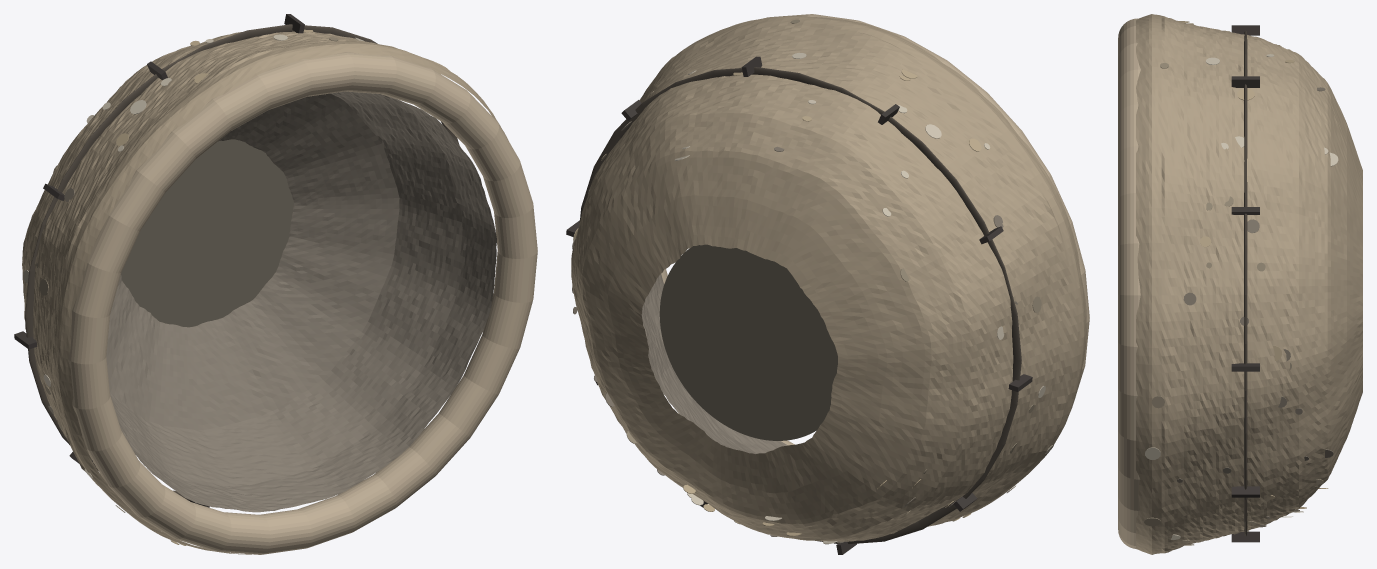
File: xiangyunsha_dye_vat_corrected.glb
3 renders of one model, left to right at view 1: azimuth 30°, elevation 25°; view 2: azimuth 150°, elevation 25°; view 3: azimuth 270°, elevation 25°, orthographic.
Visible parts, largest first — view 1: dark_hollow_inside, thick_rounded_worn_lip, handmade_brown_ceramic_outer_body, dark_bottom_inside, dark_rusted_iron_hoop; view 2: handmade_brown_ceramic_outer_body, dark_bottom_inside, dark_rusted_iron_hoop, dark_hollow_inside, thick_rounded_worn_lip; view 3: handmade_brown_ceramic_outer_body, thick_rounded_worn_lip, dark_rusted_iron_hoop, iron_hoop_clamp_3, iron_hoop_clamp_10.
Part boxes in pixels (box(x1,y1,x2,y2)): dark_hollow_inside: box(106, 91, 496, 512); thick_rounded_worn_lip: box(68, 52, 537, 554); handmade_brown_ceramic_outer_body: box(22, 31, 507, 554); dark_bottom_inside: box(121, 139, 293, 327); dark_rusted_iron_hoop: box(25, 24, 459, 500); handmade_brown_ceramic_outer_body: box(571, 16, 1086, 541); dark_bottom_inside: box(659, 244, 837, 440); dark_rusted_iron_hoop: box(579, 67, 1021, 544); dark_hollow_inside: box(641, 274, 787, 453); thick_rounded_worn_lip: box(661, 14, 1089, 445); handmade_brown_ceramic_outer_body: box(1136, 14, 1362, 554); thick_rounded_worn_lip: box(1118, 18, 1140, 548); dark_rusted_iron_hoop: box(1244, 30, 1247, 536); iron_hoop_clamp_3: box(1231, 76, 1259, 87); iron_hoop_clamp_10: box(1231, 486, 1259, 497).
Bounding box in the file's own units: 2.86 × 2.86 × 1.29.
